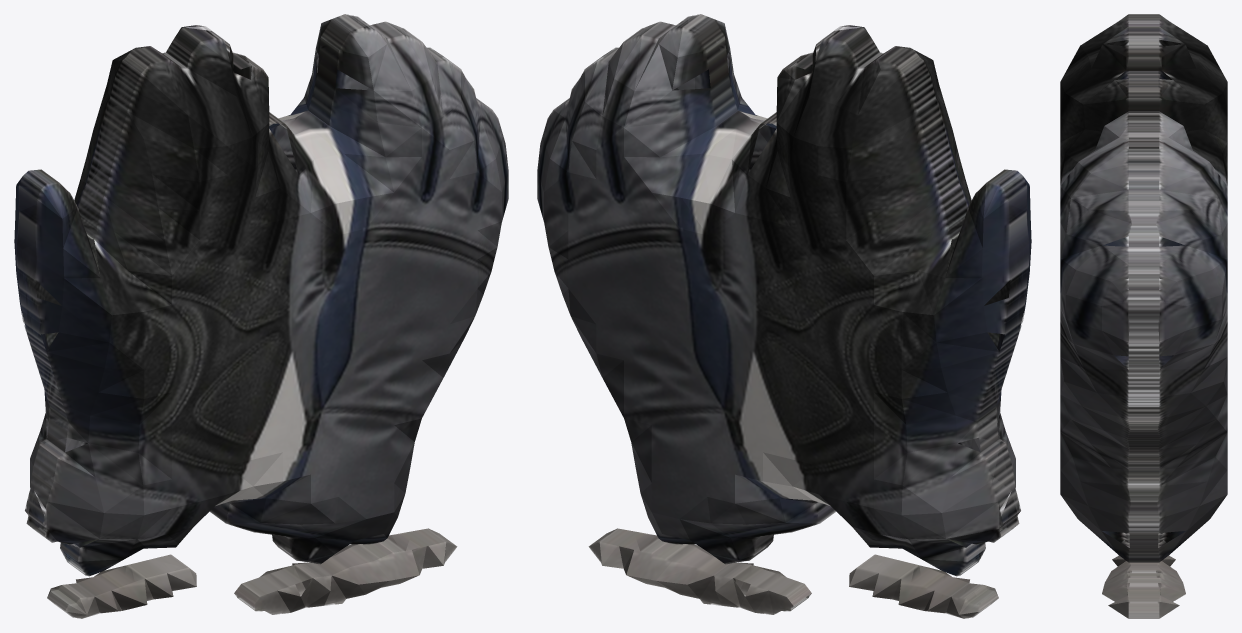
File: oxford-vantage-winter-glove-088.glb
3 views of the same model, side by side, from view 1: azimuth 30°, elevation 25°; view 2: azimuth 150°, elevation 25°; view 3: azimuth 270°, elevation 25° (orthographic). The views are drawn at different scales.
Parts seen in each view (by area): view 1: world; view 2: world; view 3: world.
Part boxes in pixels (x1=…): world: x1=14, y1=14, x2=508, y2=618; world: x1=537, y1=14, x2=1031, y2=618; world: x1=1060, y1=14, x2=1227, y2=618.
Bounding box in the file's own units: 0.8247 × 1 × 0.3.
Materials: 1 (1 with a texture image).
